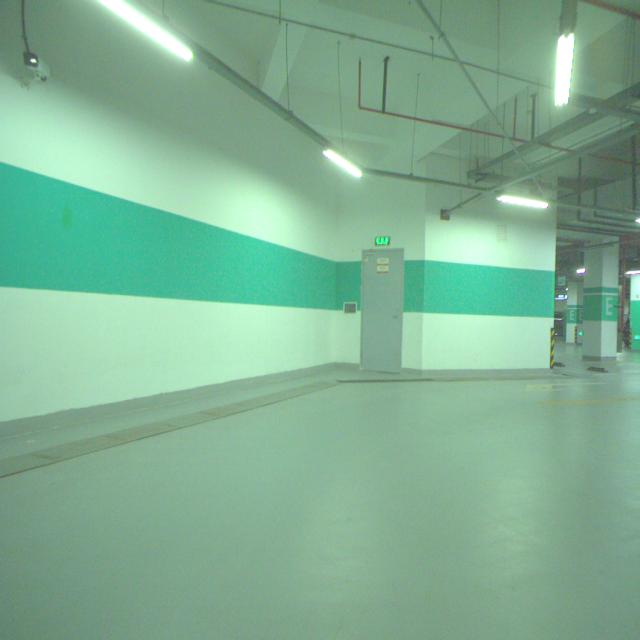pillar: (582, 245, 619, 361)
